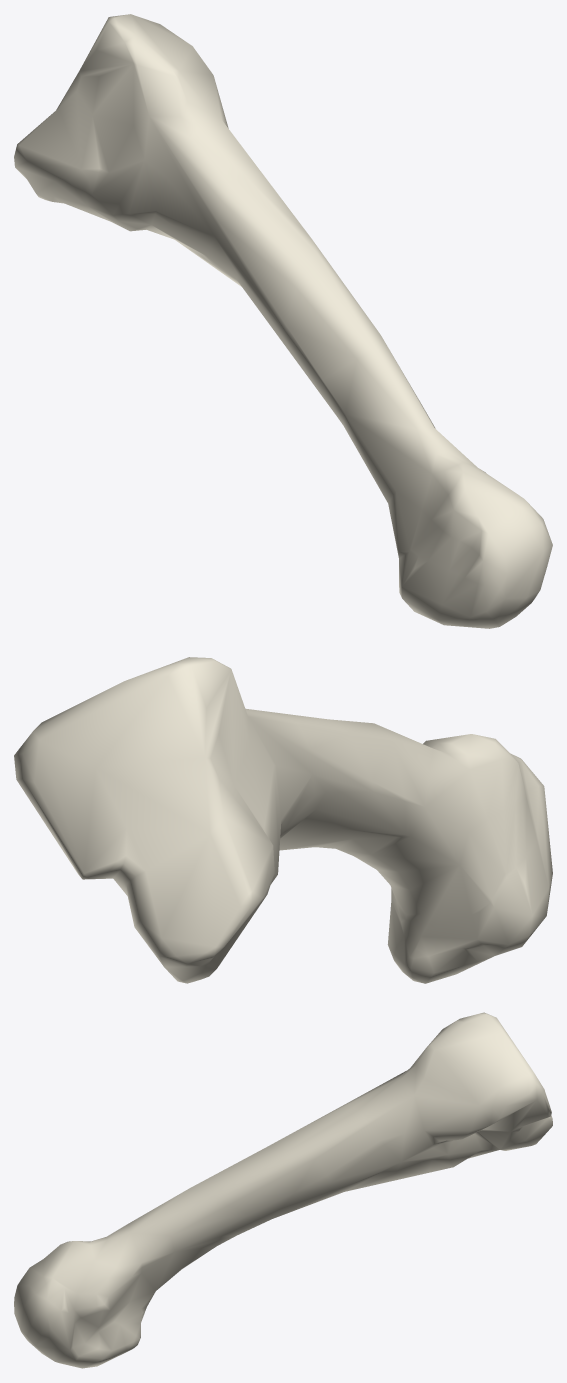
The picture shows the model from 3 angles, top to bottom: view 1: azimuth 30°, elevation 25°; view 2: azimuth 150°, elevation 25°; view 3: azimuth 270°, elevation 25°; orthographic projection. The views are drawn at different scales.
Visible parts, largest first — view 1: ZA_b0bd7f9ca22f4abd; view 2: ZA_b0bd7f9ca22f4abd; view 3: ZA_b0bd7f9ca22f4abd.
Boxes of the visible parts, x1,y1,x2,y2 form: ZA_b0bd7f9ca22f4abd: (14,14,552,628); ZA_b0bd7f9ca22f4abd: (14,657,552,983); ZA_b0bd7f9ca22f4abd: (14,1012,552,1368).
Size of the model in its own units: 0.0231 by 0.0444 by 0.0678.
